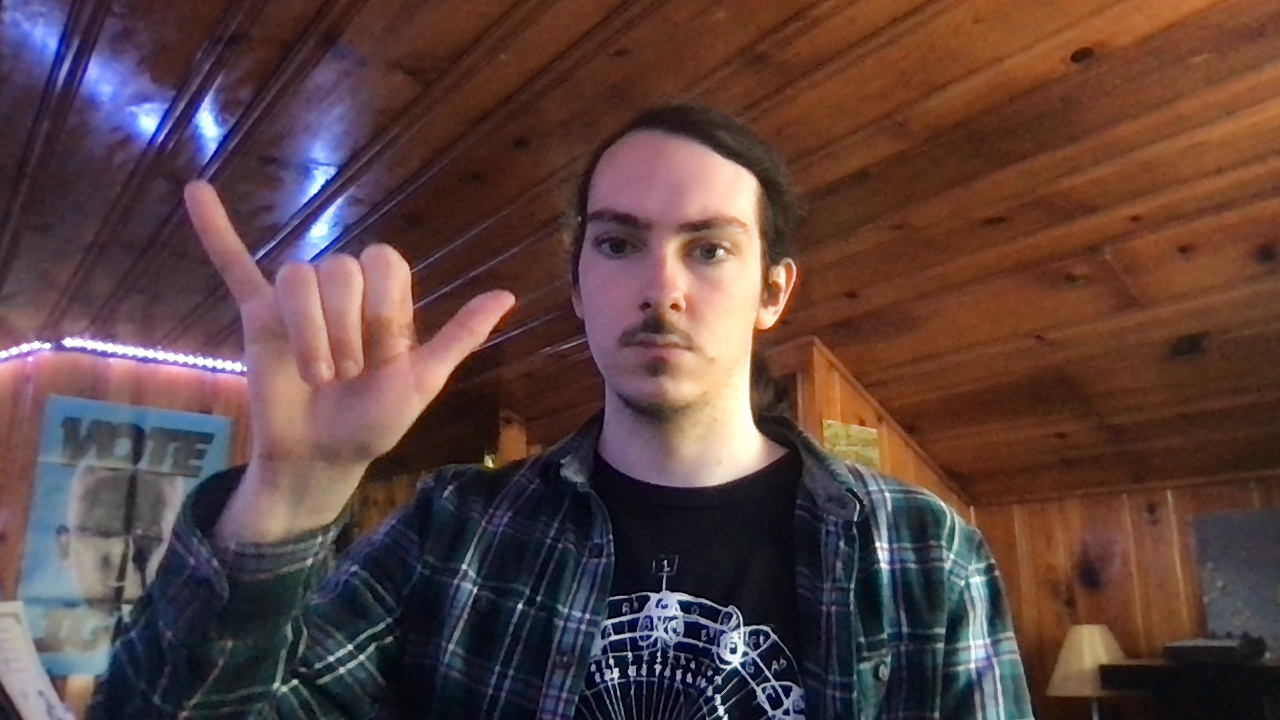y: (180, 177, 516, 461)
